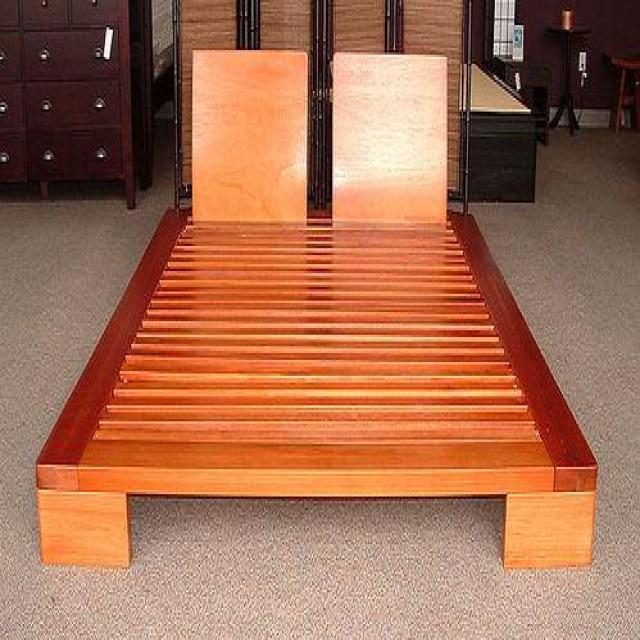bed: (32, 194, 600, 572)
